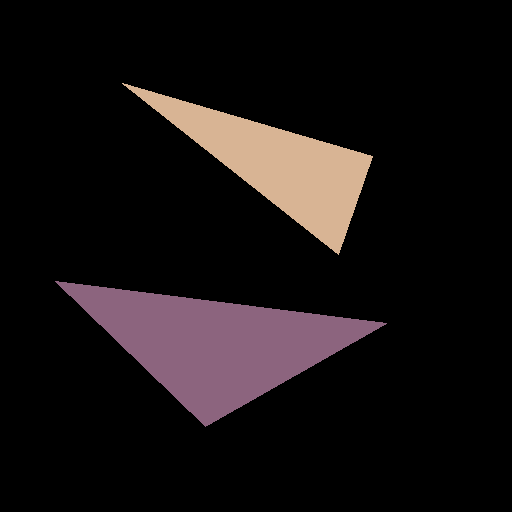triangle: (55, 281, 386, 426), (122, 83, 372, 254)
